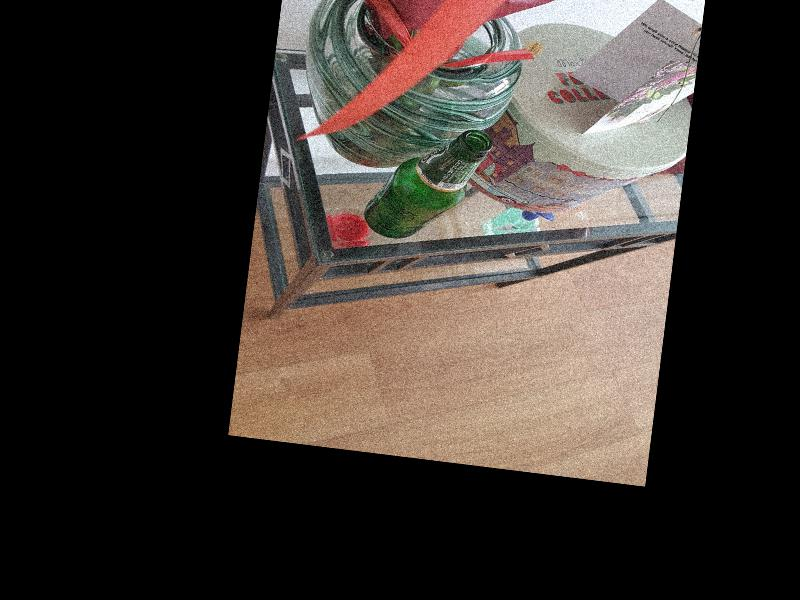Beer: (360, 118, 493, 248)
